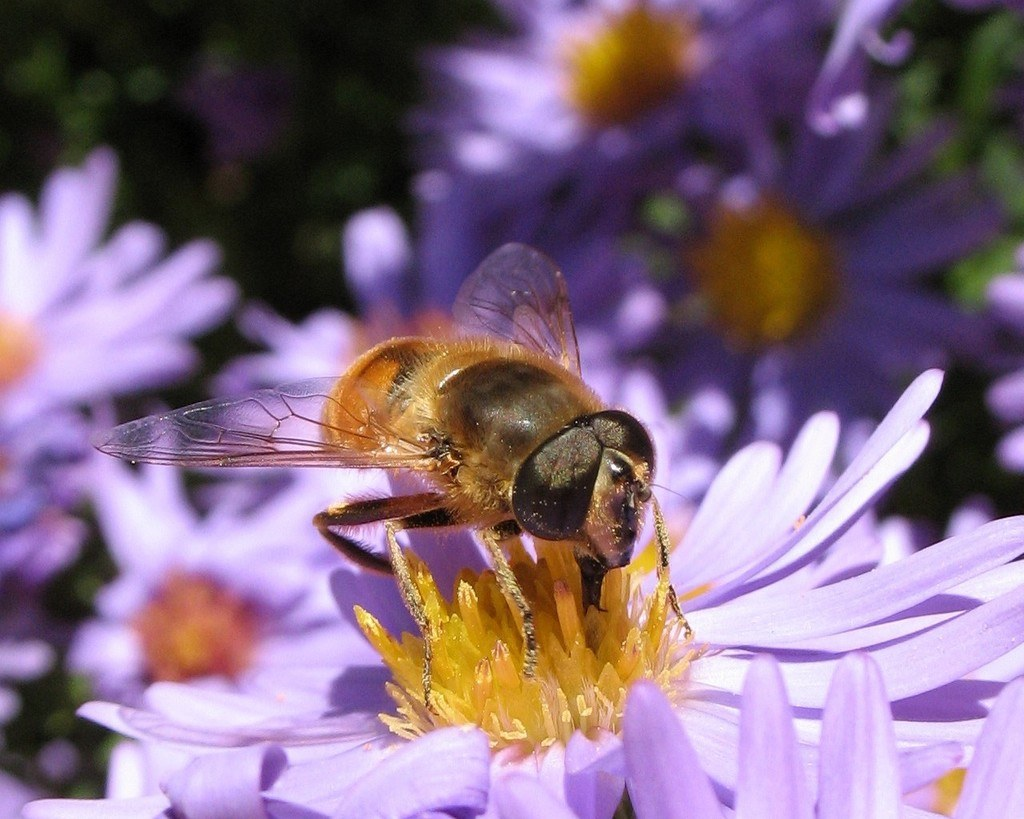bee: (89, 236, 706, 720)
